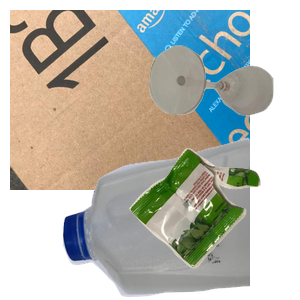cardboard: (10, 10, 250, 190)
glass: (147, 43, 300, 151)
plastic: (60, 135, 300, 300)
trash: (127, 146, 300, 300)
